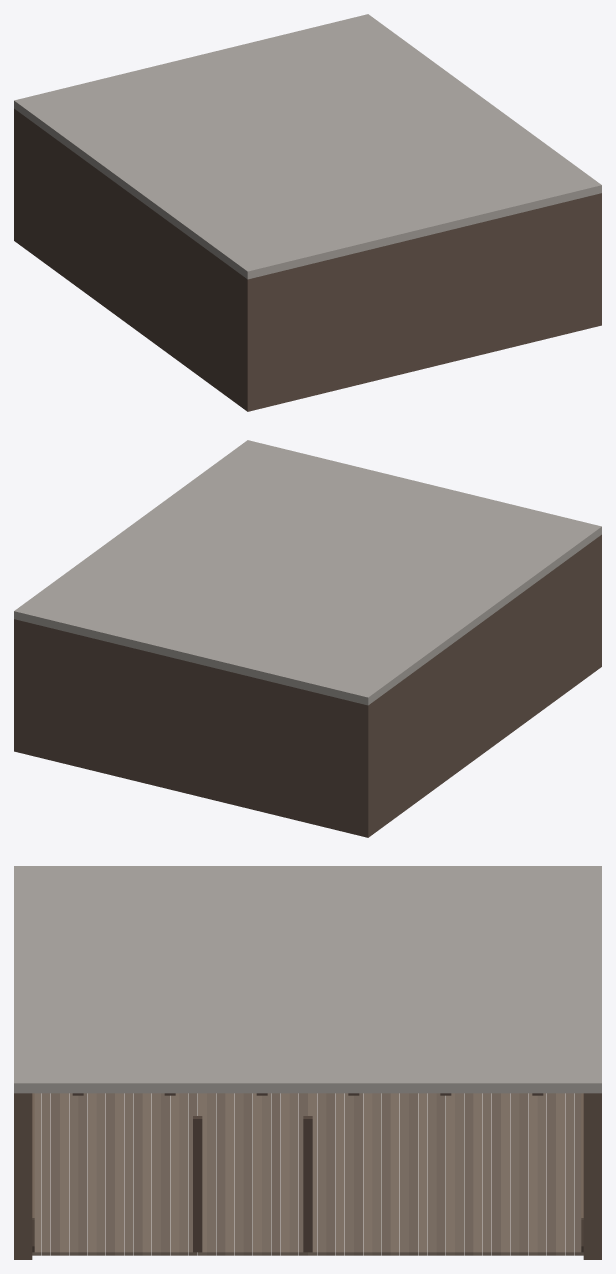
Rendered from hub_trophy_room.gltf.
The picture shows the model from 3 angles, top to bottom: view 1: azimuth 30°, elevation 25°; view 2: azimuth 150°, elevation 25°; view 3: azimuth 270°, elevation 25°; orthographic projection. The views are drawn at different scales.
Parts seen in each view (by area): view 1: Body; view 2: Body; view 3: Body.
Part boxes in pixels (box(x1,y1,x2,y2)): Body: box(14, 14, 601, 411); Body: box(14, 440, 601, 837); Body: box(14, 866, 601, 1259).
Size of the model in its own units: 14 by 5.4 by 16.
